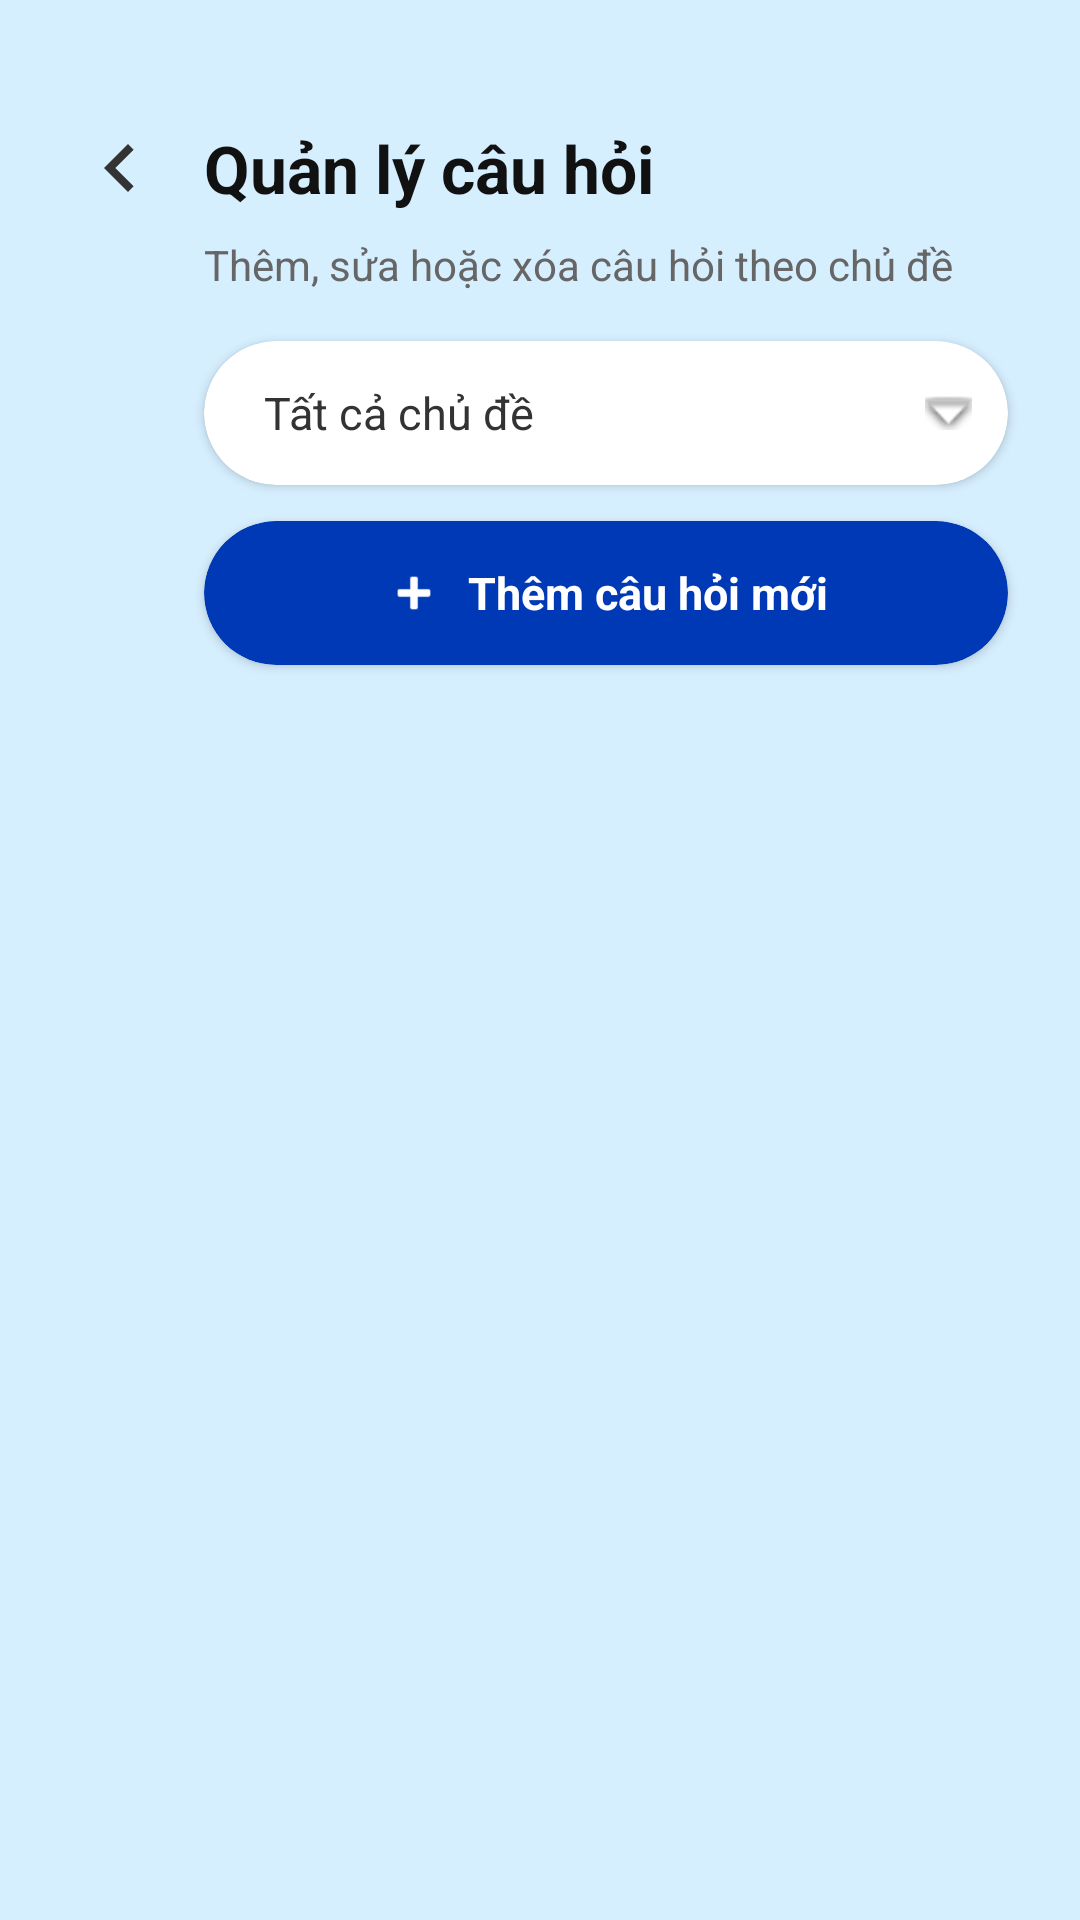

Icon bounding boxes for this 1080px x 1920px phone screenshot, format (x1, y1, x2, y2):
add: (397, 576, 431, 610)
back arrow: (104, 144, 134, 192)
